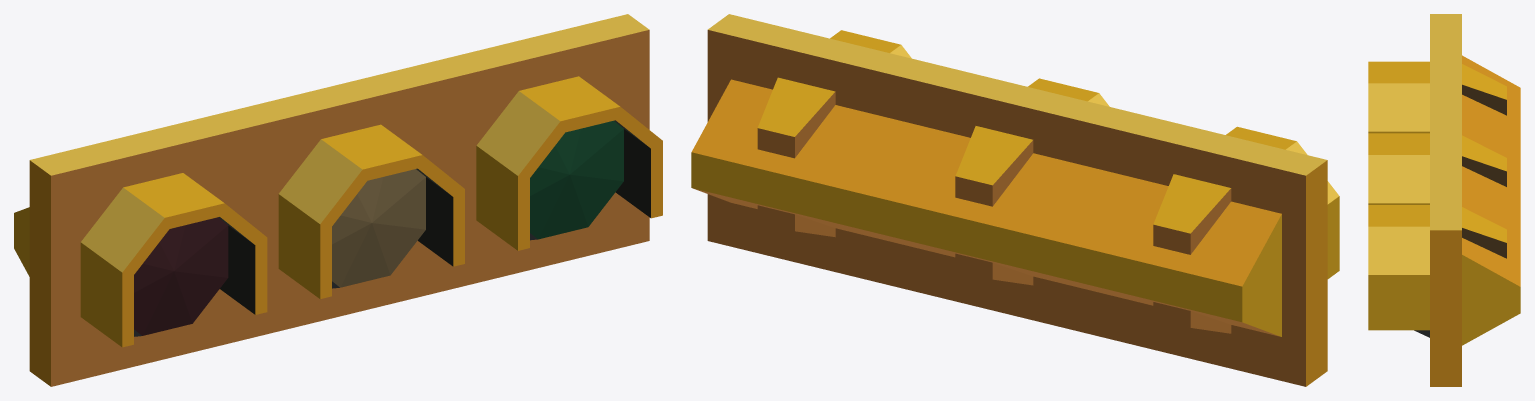
The model's file is TB_CITY_Prop_TrafficLight_C_Yellow.FBX.
3 renders of one model, left to right at view 1: azimuth 30°, elevation 25°; view 2: azimuth 150°, elevation 25°; view 3: azimuth 270°, elevation 25°, orthographic. The views are drawn at different scales.
Visible parts, largest first — view 1: TB_CITY_Prop_TrafficLight_C_Yellow; view 2: TB_CITY_Prop_TrafficLight_C_Yellow; view 3: TB_CITY_Prop_TrafficLight_C_Yellow.
Boxes of the visible parts, left/top/right/bottom form: TB_CITY_Prop_TrafficLight_C_Yellow: left=14, top=14, right=662, bottom=386; TB_CITY_Prop_TrafficLight_C_Yellow: left=691, top=14, right=1339, bottom=386; TB_CITY_Prop_TrafficLight_C_Yellow: left=1368, top=14, right=1520, bottom=386.
Bounding box in the file's own units: 3.04 × 1.03 × 0.9038.
